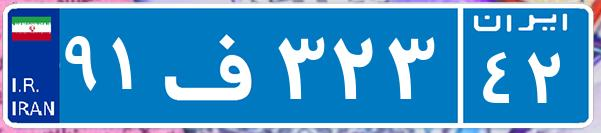1: (110, 28, 158, 105)
2: (330, 28, 385, 110), (525, 38, 570, 115)
3: (385, 28, 445, 110), (273, 28, 330, 110)
4: (475, 38, 525, 113)
9: (57, 26, 110, 107)
ف: (158, 15, 273, 115)
